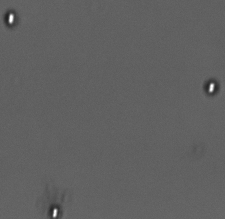Living Cell: (203, 77, 220, 96), (5, 10, 18, 28), (48, 203, 63, 217)
